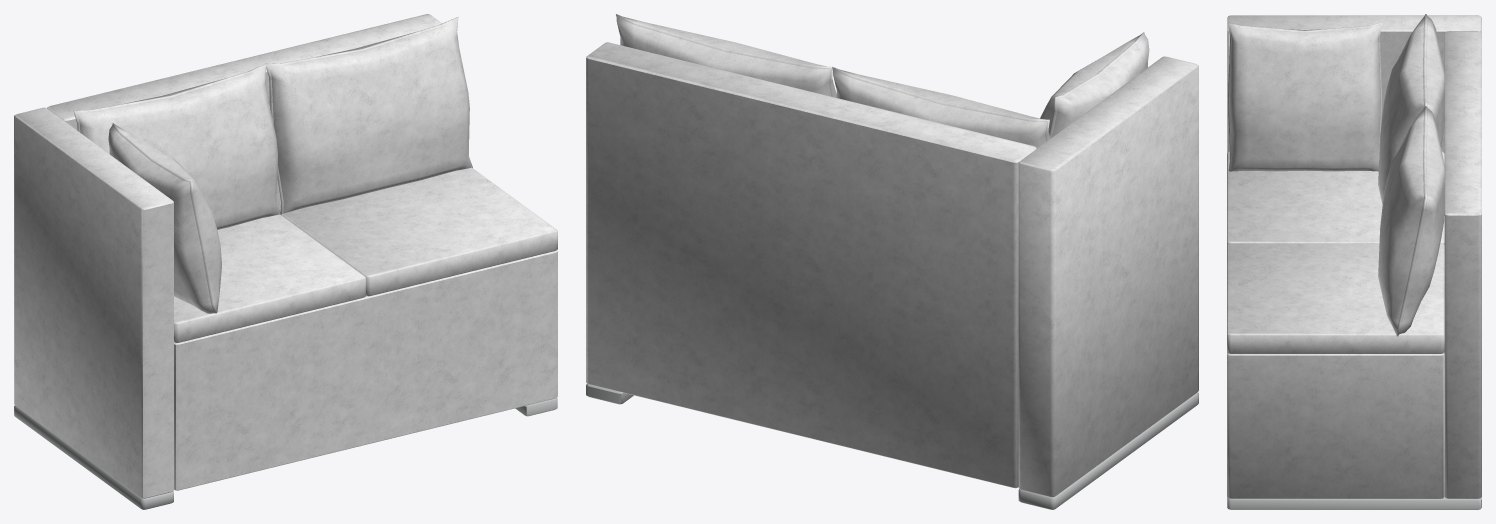
Rendered from Sofa07_3.FBX.
3 views of the same model, side by side, from view 1: azimuth 30°, elevation 25°; view 2: azimuth 150°, elevation 25°; view 3: azimuth 270°, elevation 25° (orthographic). The views are drawn at different scales.
Parts seen in each view (by area): view 1: Sofa07_3; view 2: Sofa07_3; view 3: Sofa07_3.
Part boxes in pixels (left/top/right/bottom): Sofa07_3: left=14, top=14, right=557, bottom=509; Sofa07_3: left=586, top=14, right=1198, bottom=509; Sofa07_3: left=1227, top=14, right=1481, bottom=509.
Bounding box in the file's own units: 156 × 114 × 84.07.
